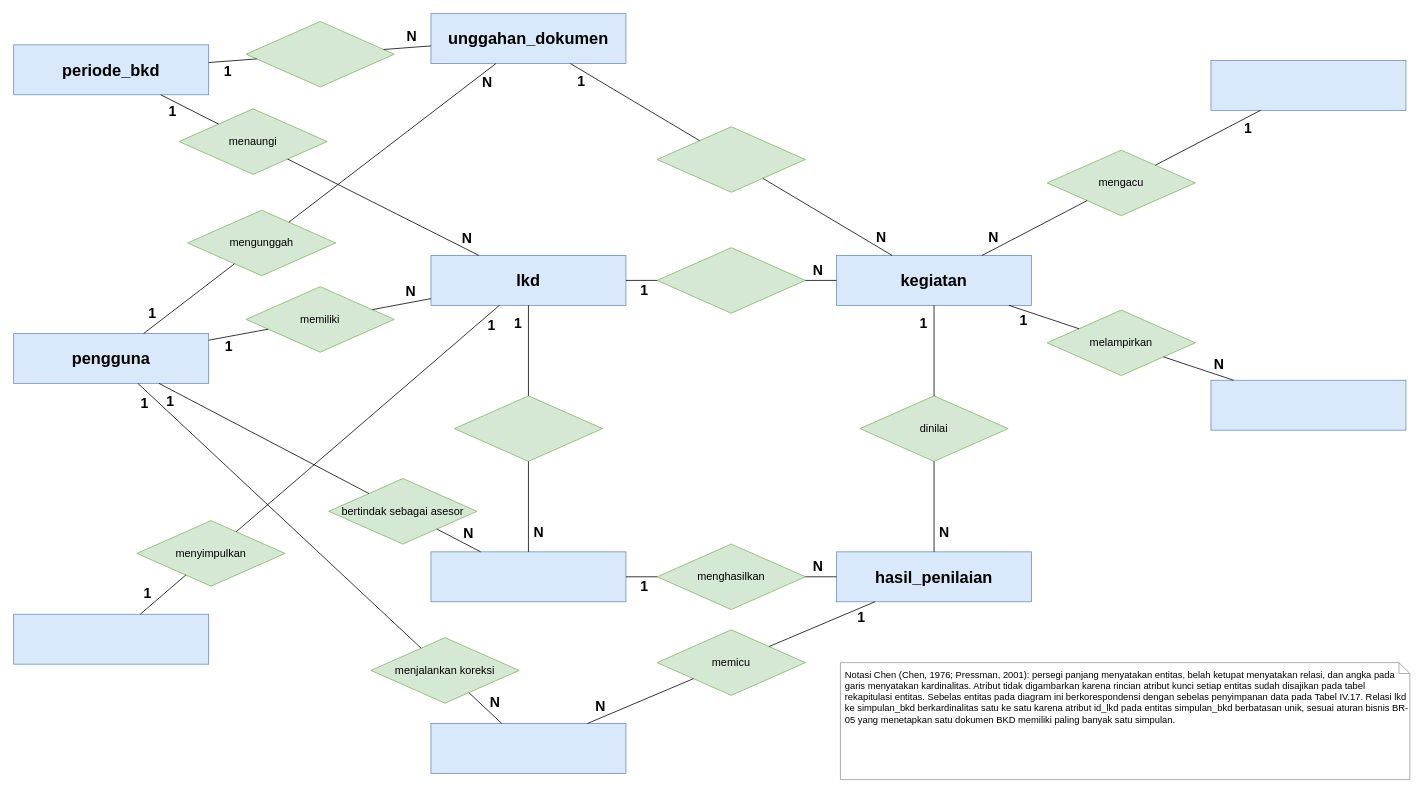
Some shapes in this 1424 by 793 pixel diagram are drawn without their labels. Here are the shapes that lost their labels. From the top down, the centre of each, then its label:
At (x=319, y=54): "mencakup".
At (x=1308, y=85): "referensi_kegiatan".
At (x=730, y=159): "menurunkan".
At (x=730, y=280): "memuat".
At (x=1308, y=404): "dokumen_kegiatan".
At (x=528, y=428): "ditugaskan".
At (x=528, y=576): "penugasan_asesor".
At (x=111, y=638): "simpulan_bkd".
At (x=528, y=748): "riwayat_transaksi".
